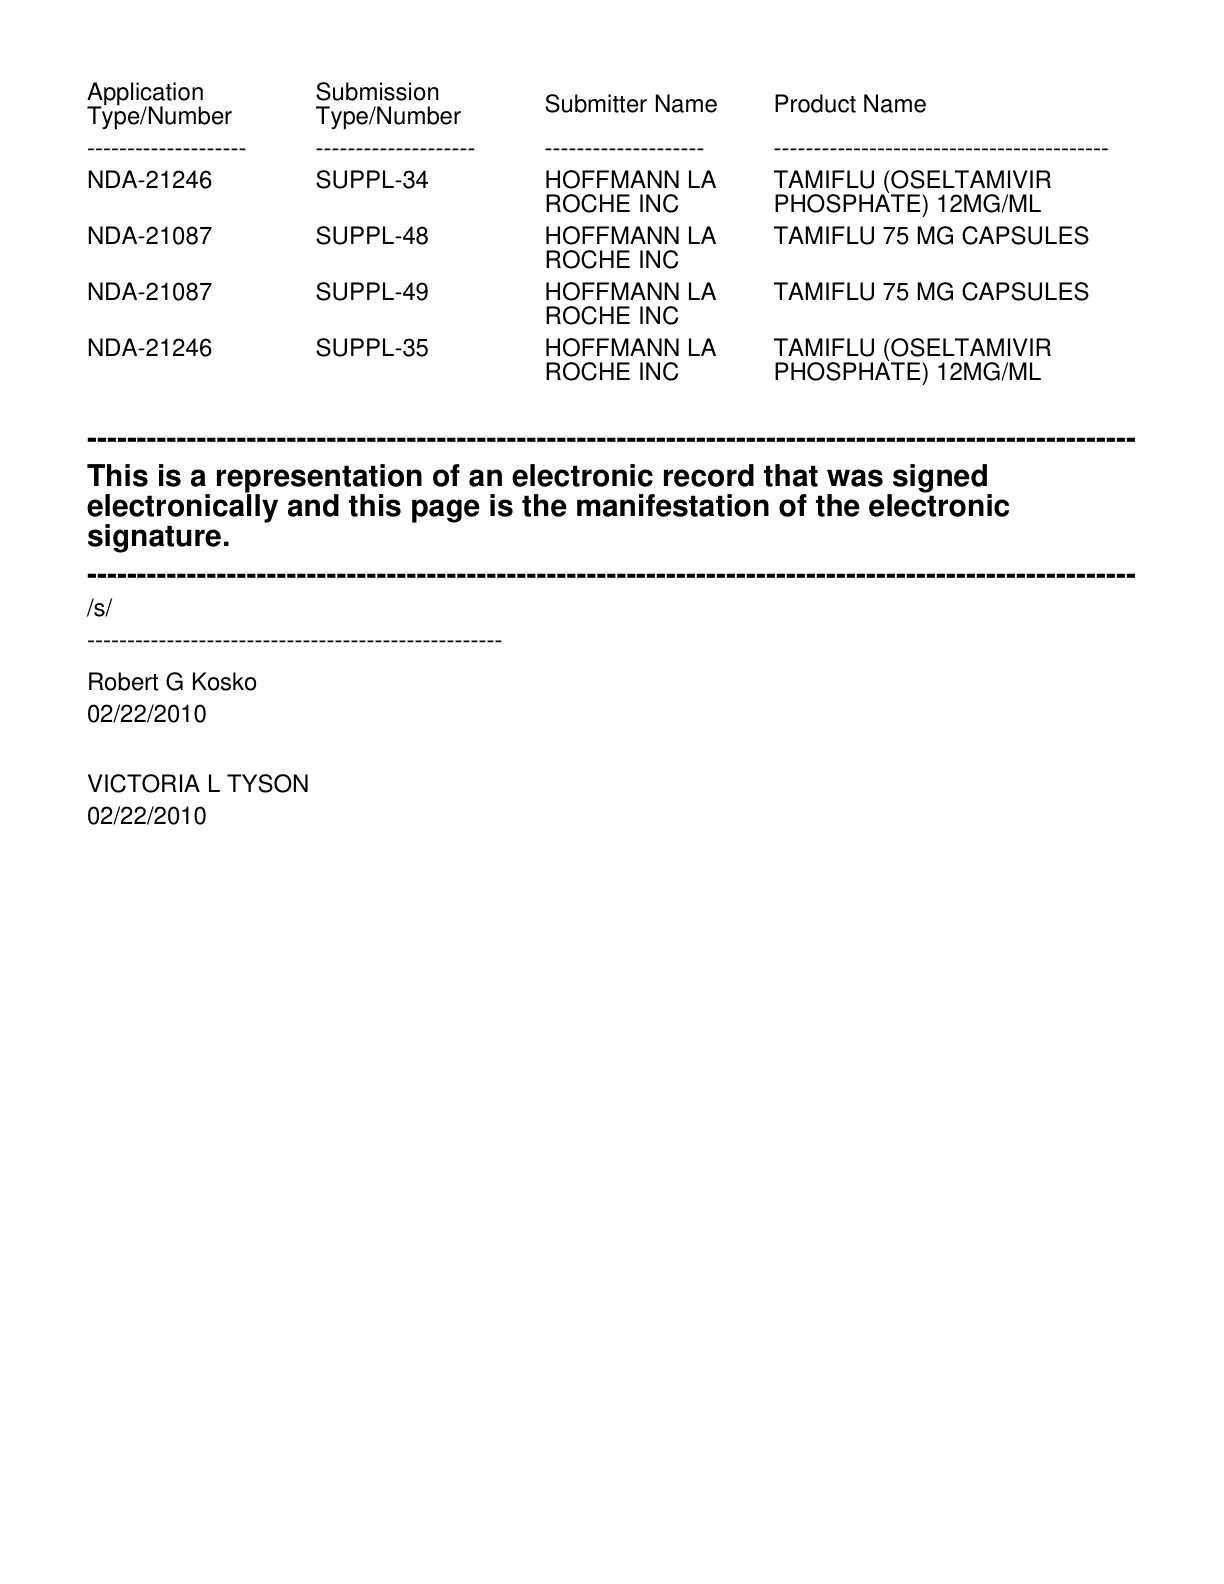nolines: (84, 80, 1110, 386)
